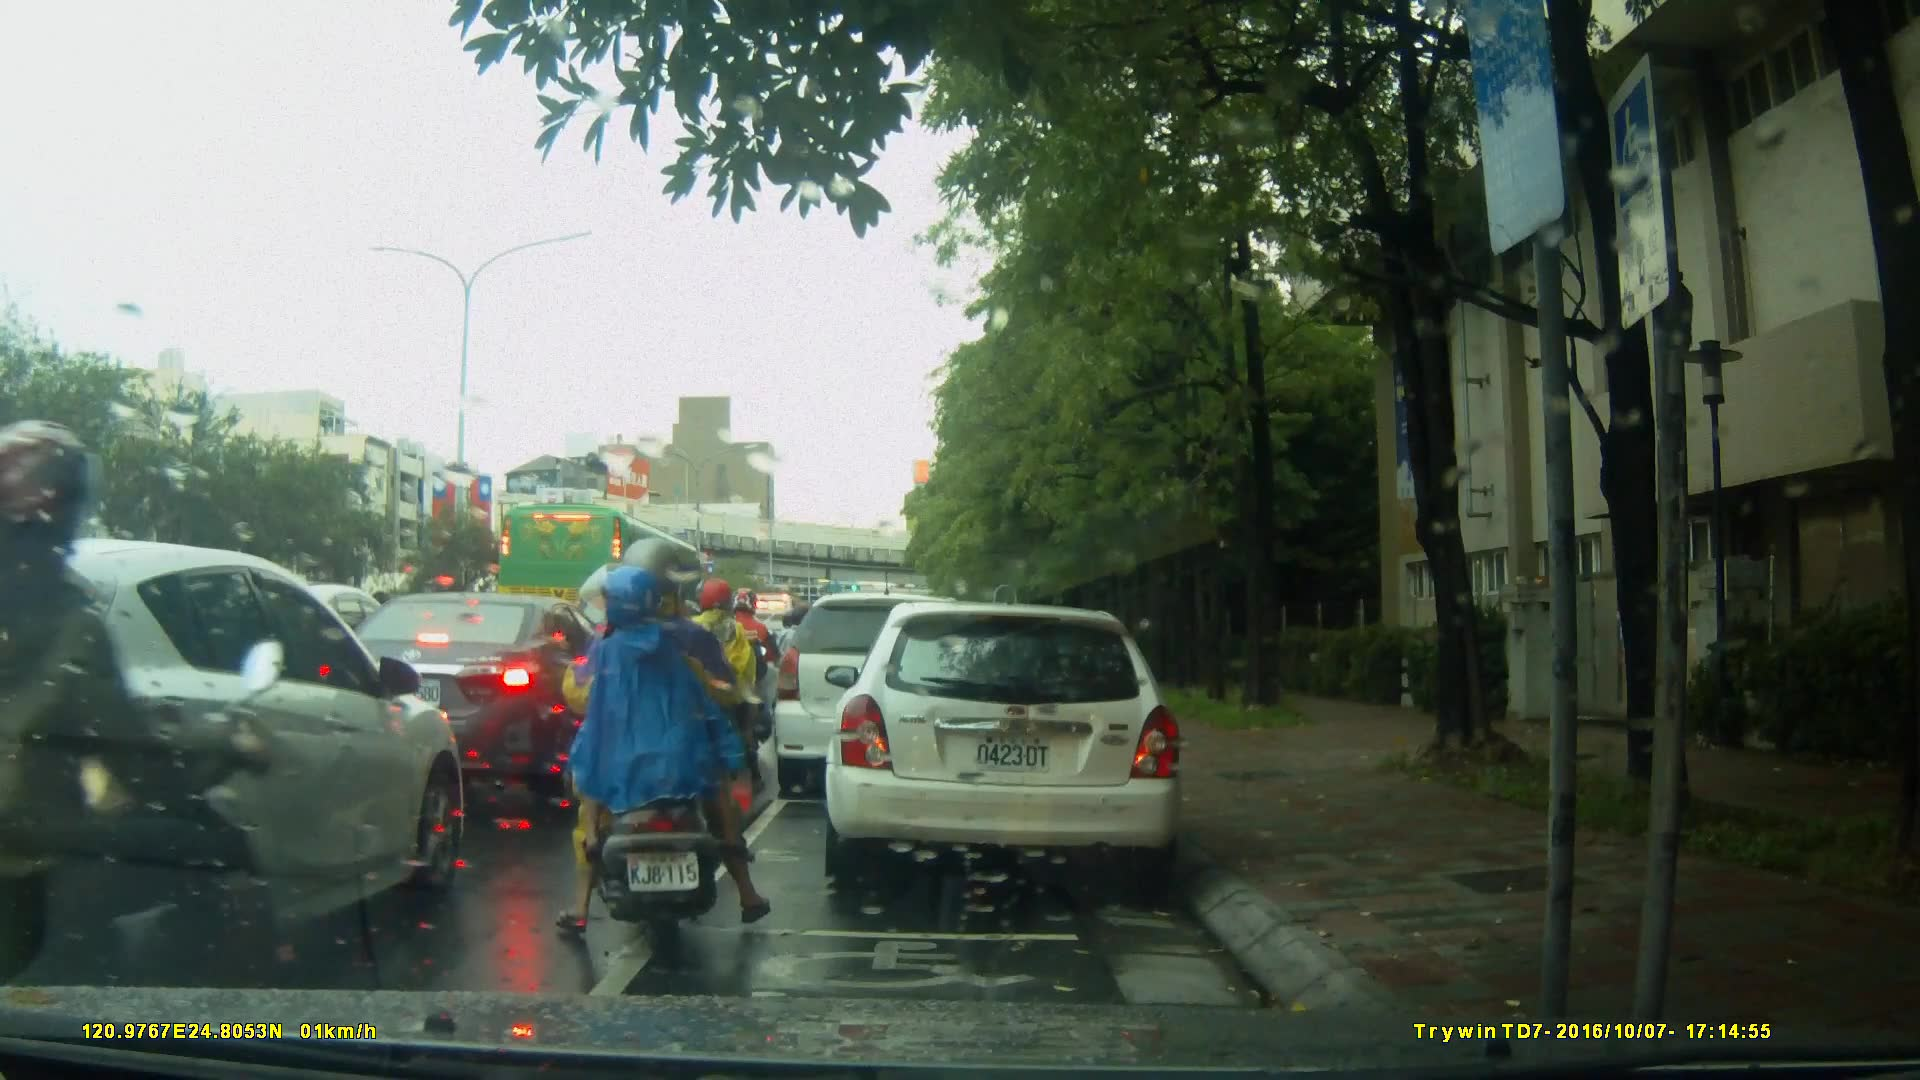rider: (1, 431, 333, 1080), (533, 532, 780, 945), (683, 576, 766, 803), (722, 592, 779, 747), (778, 598, 822, 722)
vehicle: (5, 535, 470, 988), (831, 592, 1196, 897), (314, 589, 629, 776), (770, 590, 999, 804), (499, 503, 713, 636)
